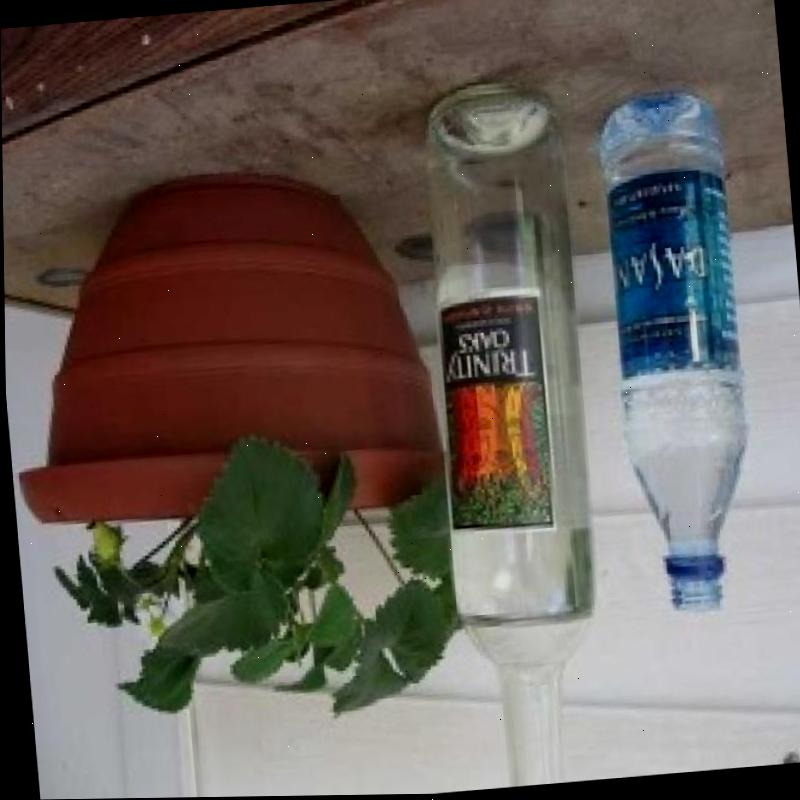botella: (594, 91, 767, 617)
